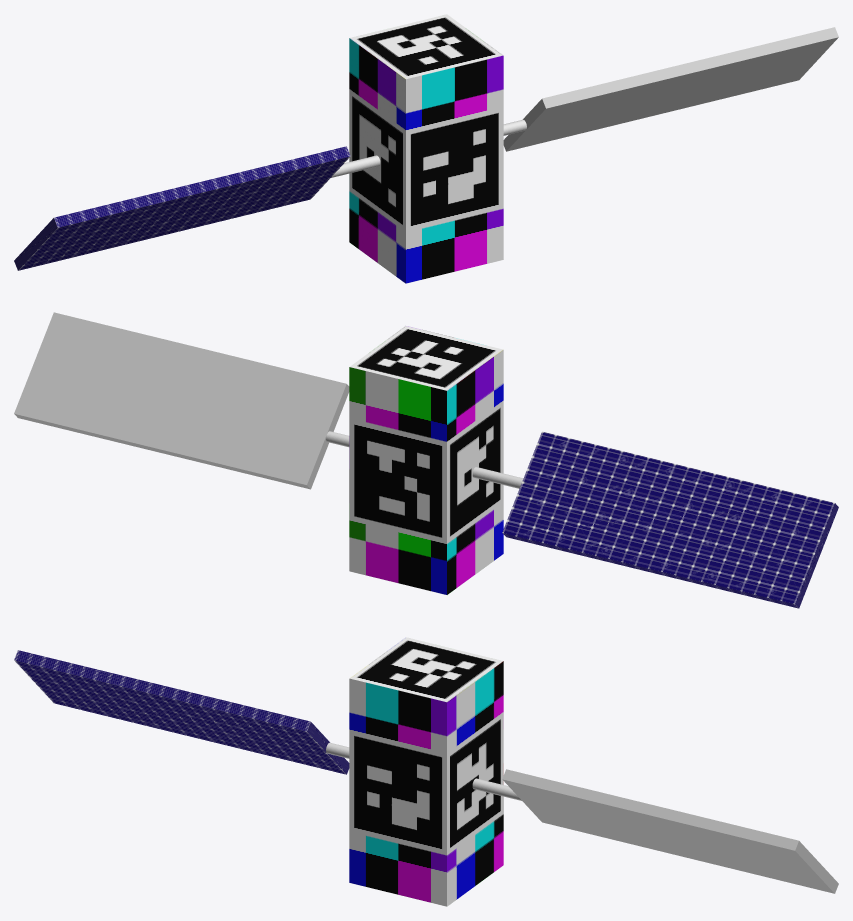
Rendered from cubesat.dae.
3 renders of one model, top to bottom at view 1: azimuth 30°, elevation 25°; view 2: azimuth 150°, elevation 25°; view 3: azimuth 330°, elevation 25°, orthographic.
Visible parts, largest first — view 1: Body, Wing Right, Wing Left, Axis; view 2: Body, Wing Right, Wing Left, Axis; view 3: Body, Wing Left, Wing Right, Axis.
Boxes of the visible parts, x1,y1,x2,y2 form: Body: (349,14,503,283); Wing Right: (14,146,350,270); Wing Left: (503,27,838,151); Axis: (331,119,526,177); Body: (349,326,503,594); Wing Right: (502,431,838,608); Wing Left: (14,312,349,489); Axis: (326,431,523,488); Body: (349,637,503,906); Wing Left: (502,769,838,893); Wing Right: (14,650,349,774); Axis: (326,742,521,800).
Size of the model in its own units: 0.8 by 0.1 by 0.2.
